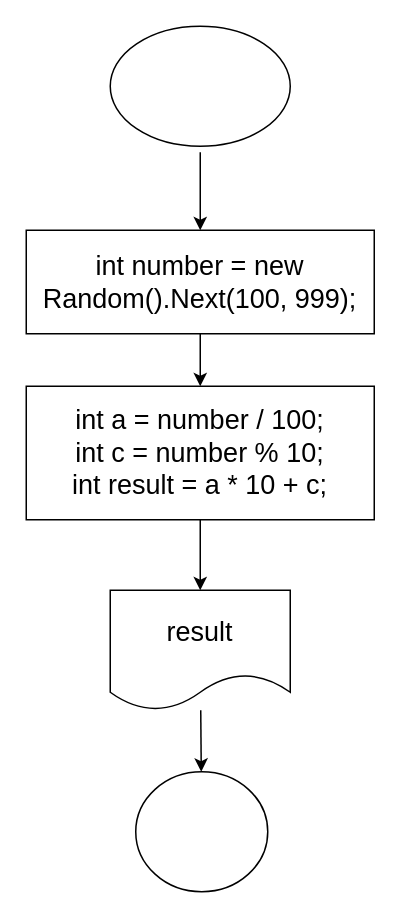
Image size: 401x918. Some labels were removed from this diagram. Each missing label, with the centre of its shape:
End: pixel 201 831
Start: pixel 199 85
